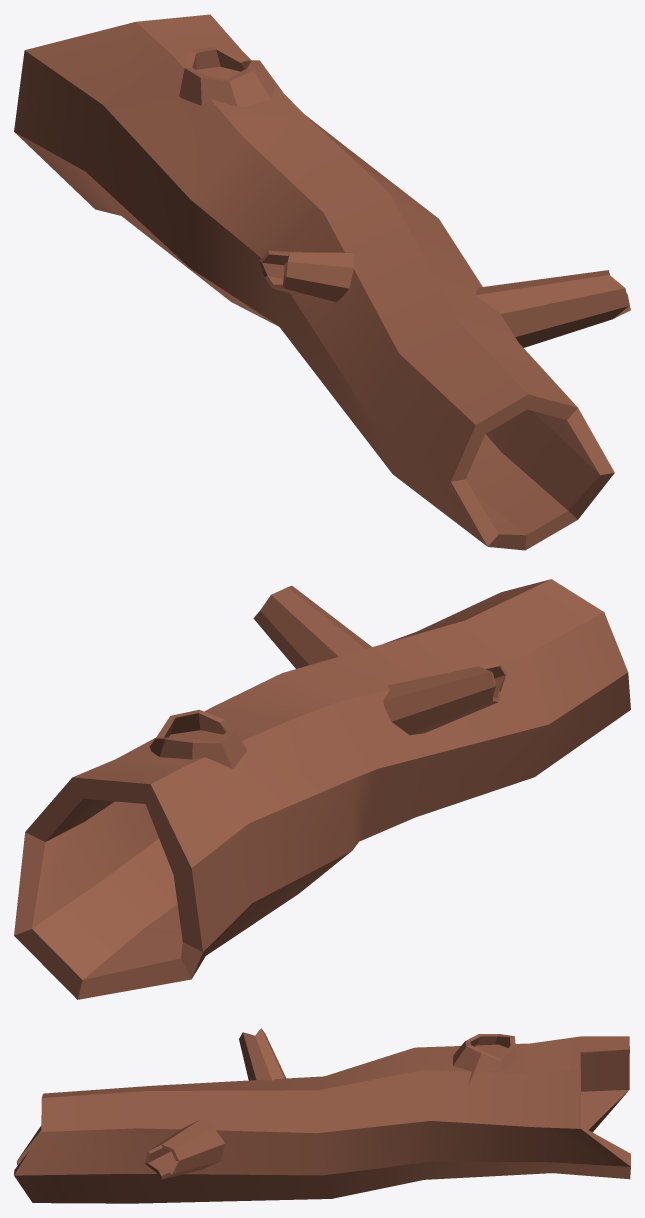
Rendered from Mesh_Hikari_Log01.fbx.
3 views of the same model, one above another, from view 1: azimuth 30°, elevation 25°; view 2: azimuth 150°, elevation 25°; view 3: azimuth 270°, elevation 25° (orthographic). The views are drawn at different scales.
Visible parts, largest first — view 1: Mesh_HikariLog01; view 2: Mesh_HikariLog01; view 3: Mesh_HikariLog01.
Part boxes in pixels (<box>): Mesh_HikariLog01: <box>14,14,630,550</box>; Mesh_HikariLog01: <box>14,579,630,999</box>; Mesh_HikariLog01: <box>14,1028,630,1203</box>.
Size of the model in its own units: 1.33 by 1.02 by 3.42.
